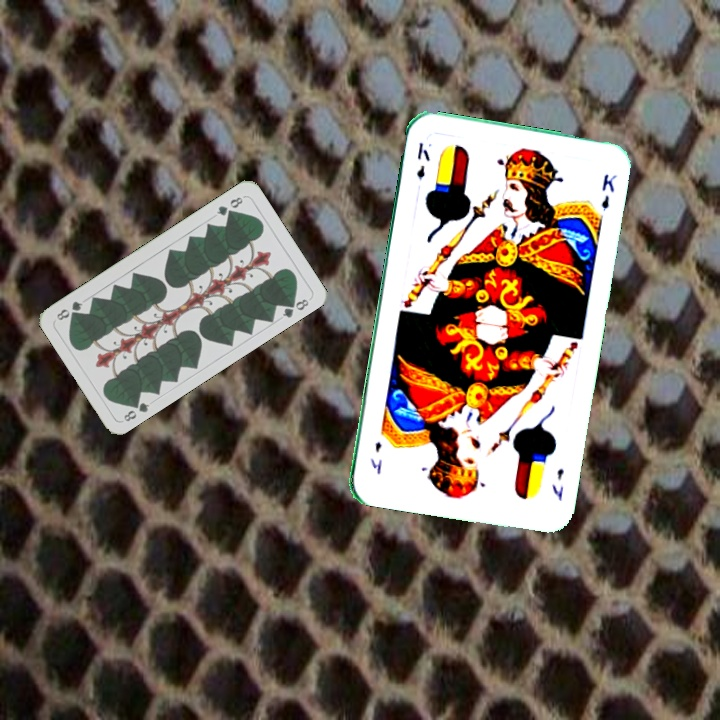EK: (412, 139, 433, 182), (548, 464, 567, 503)
G8: (120, 396, 152, 424), (213, 193, 247, 218)
